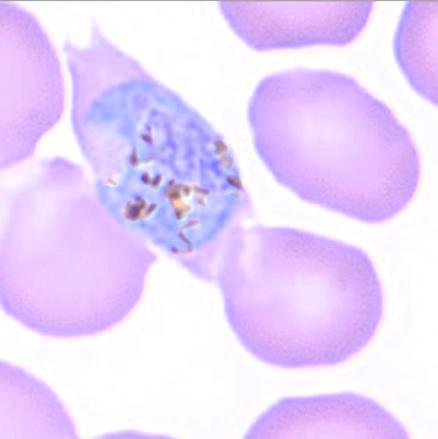Infected: (54, 20, 258, 287)
Uninfected: (0, 164, 155, 334), (248, 69, 420, 221), (212, 227, 381, 369)
